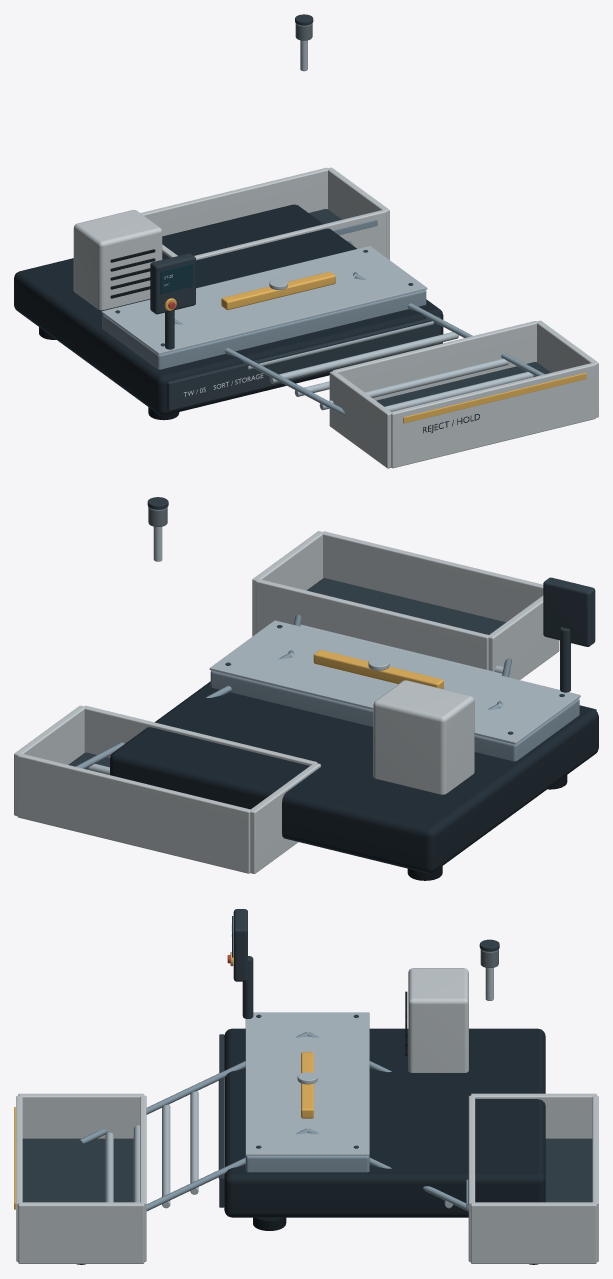
Rendered from sorting-storage.glb.
3 renders of one model, top to bottom at view 1: azimuth 30°, elevation 25°; view 2: azimuth 150°, elevation 25°; view 3: azimuth 270°, elevation 25°, orthographic. The views are drawn at different scales.
Visible parts, largest first — view 1: sorting_storage_Enamel_Pearl, sorting_storage_Cast_Base, sorting_storage_Machined_Steel, sorting_storage_Enamel_Graphite, sorting_storage_Brushed_Aluminium, Diverter_Safety_Amber, sorting_storage_Safety_Amber, sorting_storage_Rubber_Seal, sorting_storage_Display_Glass; view 2: sorting_storage_Enamel_Pearl, sorting_storage_Cast_Base, sorting_storage_Machined_Steel, sorting_storage_Enamel_Graphite, sorting_storage_Brushed_Aluminium, Diverter_Safety_Amber; view 3: sorting_storage_Cast_Base, sorting_storage_Enamel_Pearl, sorting_storage_Machined_Steel, sorting_storage_Enamel_Graphite, sorting_storage_Brushed_Aluminium, Diverter_Safety_Amber, sorting_storage_Rubber_Seal.
Part boxes in pixels (left/top/right/bottom): sorting_storage_Enamel_Pearl: left=73, top=167, right=598, bottom=468; sorting_storage_Cast_Base: left=14, top=204, right=443, bottom=415; sorting_storage_Machined_Steel: left=101, top=40, right=533, bottom=411; sorting_storage_Enamel_Graphite: left=115, top=14, right=550, bottom=410; sorting_storage_Brushed_Aluminium: left=102, top=219, right=544, bottom=416; Diverter_Safety_Amber: left=221, top=271, right=335, bottom=309; sorting_storage_Safety_Amber: left=164, top=298, right=586, bottom=423; sorting_storage_Rubber_Seal: left=39, top=249, right=179, bottom=420; sorting_storage_Display_Glass: left=160, top=263, right=193, bottom=294; sorting_storage_Enamel_Pearl: left=14, top=531, right=559, bottom=873; sorting_storage_Cast_Base: left=110, top=681, right=598, bottom=873; sorting_storage_Machined_Steel: left=88, top=526, right=580, bottom=774; sorting_storage_Enamel_Graphite: left=68, top=497, right=596, bottom=769; sorting_storage_Brushed_Aluminium: left=75, top=614, right=579, bottom=768; Diverter_Safety_Amber: left=313, top=650, right=443, bottom=689; sorting_storage_Cast_Base: left=224, top=1028, right=545, bottom=1217; sorting_storage_Enamel_Pearl: left=16, top=968, right=598, bottom=1263; sorting_storage_Machined_Steel: left=105, top=967, right=493, bottom=1208; sorting_storage_Enamel_Graphite: left=22, top=909, right=592, bottom=1207; sorting_storage_Brushed_Aluminium: left=79, top=1032, right=468, bottom=1211; Diverter_Safety_Amber: left=301, top=1052, right=313, bottom=1118; sorting_storage_Rubber_Seal: left=76, top=991, right=538, bottom=1264.
Size of the model in its own units: 3.61 by 2.68 by 4.91.
